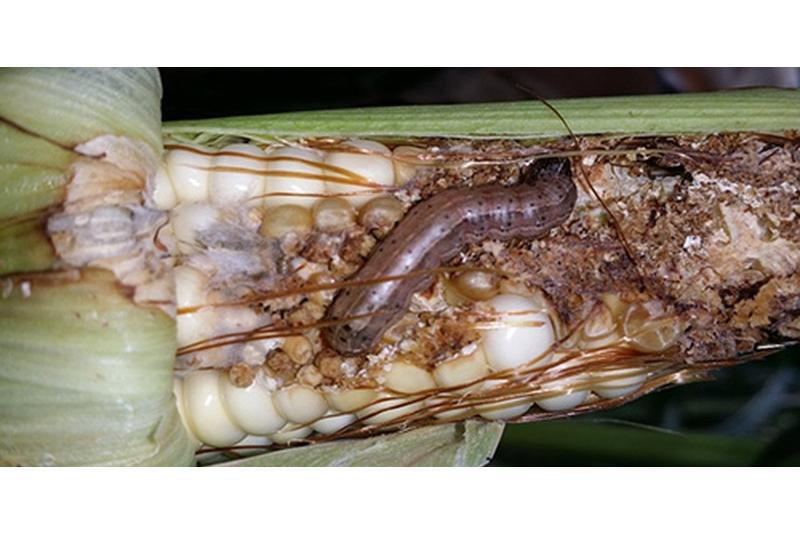fall-armyworm: (319, 159, 578, 355)
